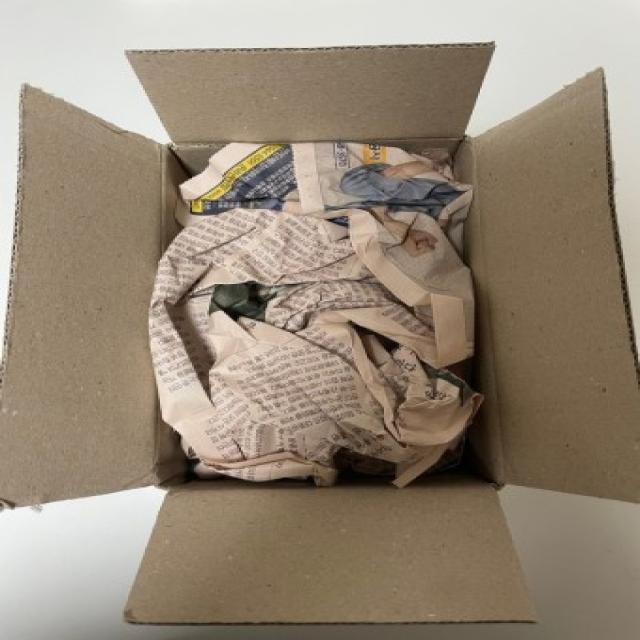Newspaper: (150, 143, 482, 495)
